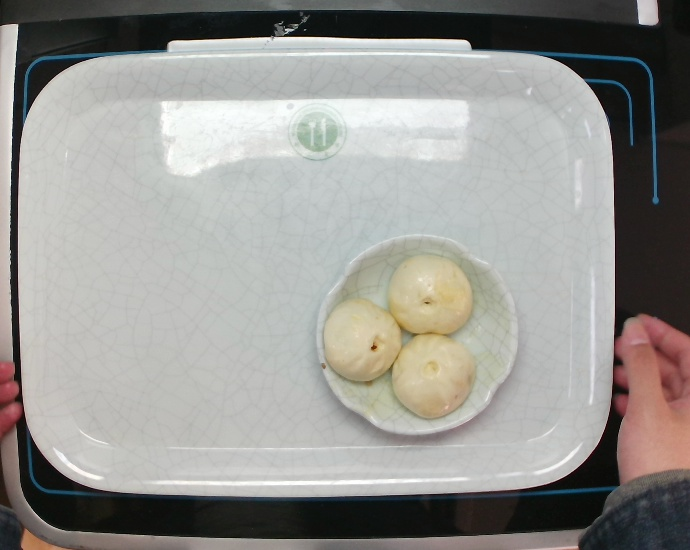JYsf-Ao_Yuan_Wan: (312, 231, 521, 439)
